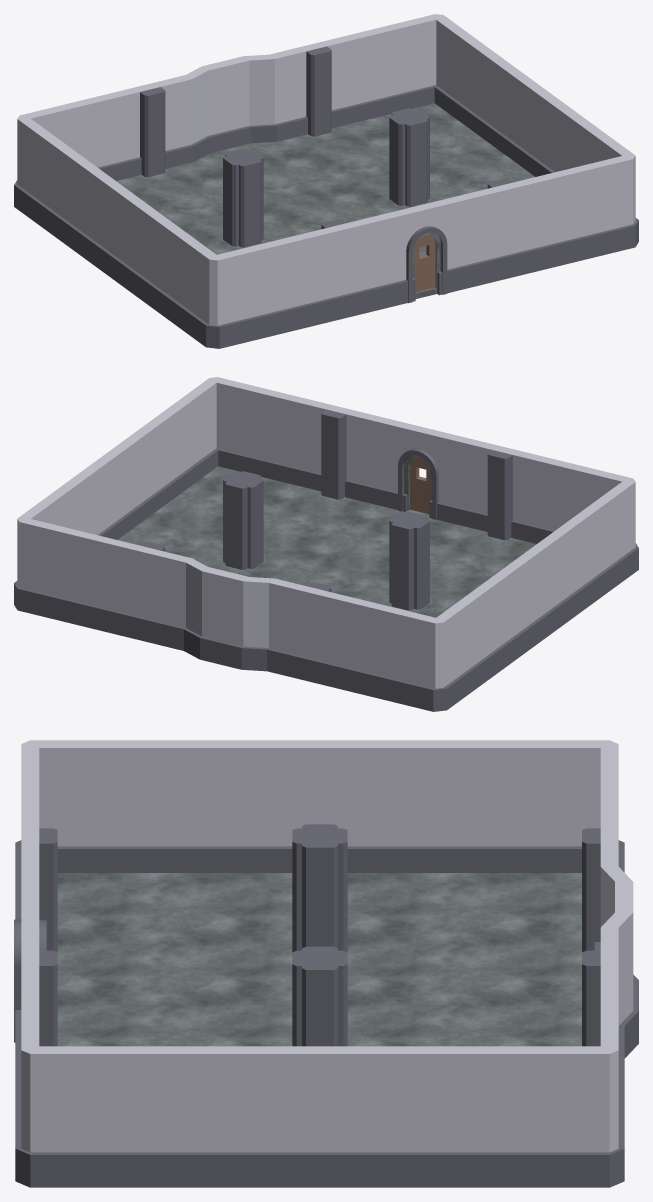
Rendered from room_sm_01.fbx.
3 renders of one model, top to bottom at view 1: azimuth 30°, elevation 25°; view 2: azimuth 150°, elevation 25°; view 3: azimuth 270°, elevation 25°, orthographic. The views are drawn at different scales.
Visible parts, largest first — view 1: floor_01_31, wall_01_40, wall_02_37, wall_02_38, wall_01_39, door_01_23, wall_02_52, wall_02_51, wall_03_36, wall_01_46, floor_05_29, floor_01_34 (+14 smaller); view 2: floor_01_30, wall_01_45, wall_02_51, wall_02_52, wall_01_46, wall_03_36, wall_02_37, wall_02_38, door_01_23, wall_01_39, wall_01_44, floor_04_2 (+14 smaller); view 3: floor_01_33, floor_01_34, wall_01_47, wall_01_50, wall_01_48, wall_01_49, wall_01_43, wall_01_42, wall_01_44, wall_01_41, floor_04_2, floor_05_29 (+12 smaller).
Part boxes in pixels (box(x1,y1,x2,y2)): floor_01_31: box(271, 103, 528, 209); wall_01_40: box(206, 236, 303, 348); wall_02_37: box(459, 175, 552, 287); wall_02_38: box(293, 215, 386, 328); wall_01_39: box(544, 155, 637, 267); door_01_23: box(376, 195, 468, 308); wall_02_52: box(102, 75, 193, 180); wall_02_51: box(268, 34, 359, 141); wall_03_36: box(184, 54, 277, 161); wall_01_46: box(350, 14, 443, 121); floor_05_29: box(189, 142, 372, 225); floor_01_34: box(116, 162, 289, 247); floor_01_30: box(124, 466, 380, 572); wall_01_45: box(349, 599, 446, 711); wall_02_51: box(99, 538, 193, 650); wall_02_52: box(266, 578, 359, 691); wall_01_46: box(14, 517, 110, 630); wall_03_36: box(183, 558, 276, 671); wall_02_37: box(292, 397, 385, 504); wall_02_38: box(459, 438, 552, 543); door_01_23: box(375, 417, 468, 524); wall_01_39: box(209, 377, 300, 484); wall_01_44: box(432, 584, 494, 711); floor_04_2: box(280, 506, 463, 590); floor_01_33: box(57, 873, 292, 989); floor_01_34: box(347, 873, 581, 989); wall_01_47: box(456, 1046, 624, 1187); wall_01_50: box(15, 1046, 179, 1187); wall_01_48: box(311, 1046, 469, 1187); wall_01_49: box(166, 1046, 325, 1187); wall_01_43: box(314, 740, 472, 872); wall_01_42: box(168, 740, 327, 872); wall_01_44: box(457, 740, 623, 872); wall_01_41: box(18, 740, 183, 872); floor_04_2: box(57, 985, 292, 1046); floor_05_29: box(347, 985, 581, 1046).
Size of the model in its own units: 52.05 by 10 by 43.15.
